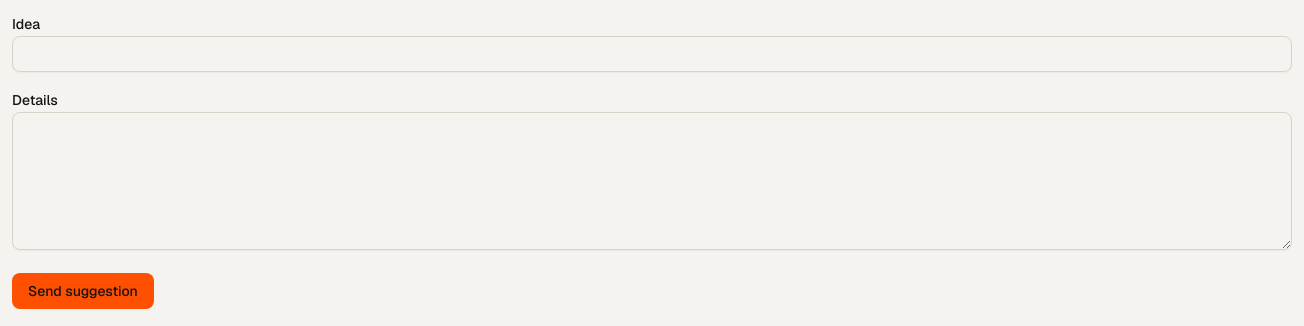
Test: ContactForm › takes its own labels, ids and length limits for another form
In the field labelled "Idea": (652, 54) left=12, top=36, right=1292, bottom=72, type "GIF export"
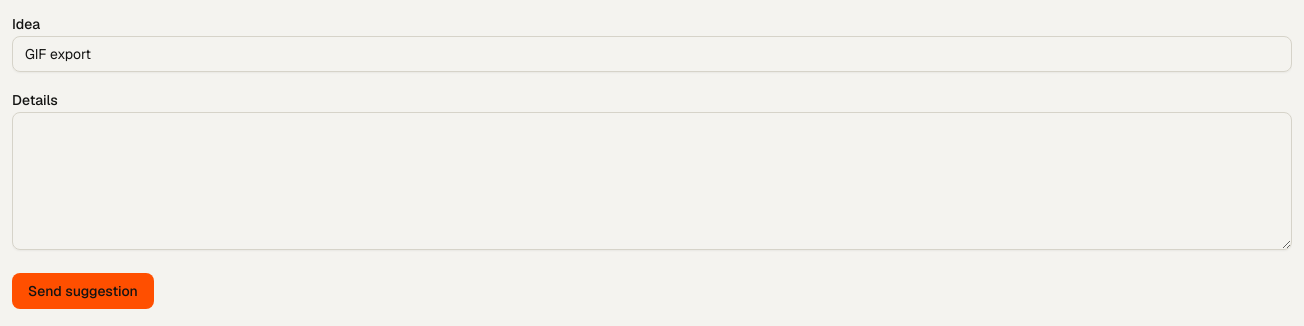
In the text box labelled "Details": (652, 181) left=12, top=112, right=1292, bottom=250, type "For chat apps"
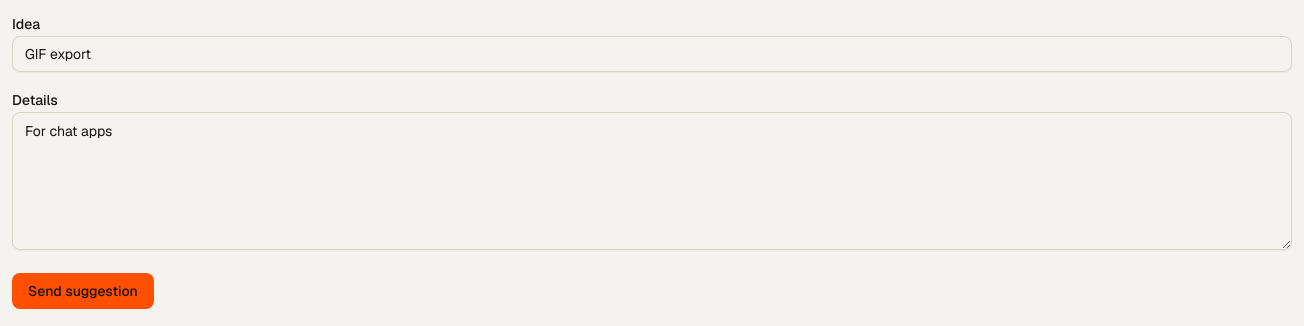
Click the button "Send suggestion": (83, 291) left=12, top=273, right=154, bottom=309
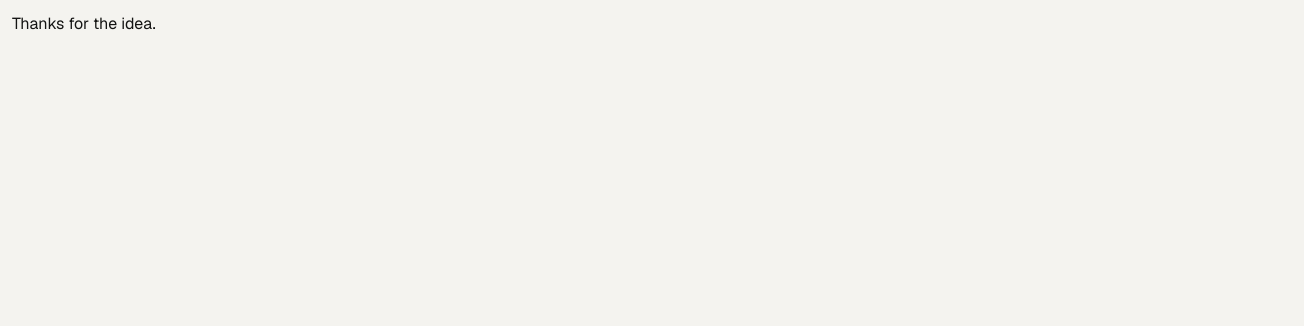
expect the message reads "Thanks for the idea.": met, box left=12, top=13, right=156, bottom=34
